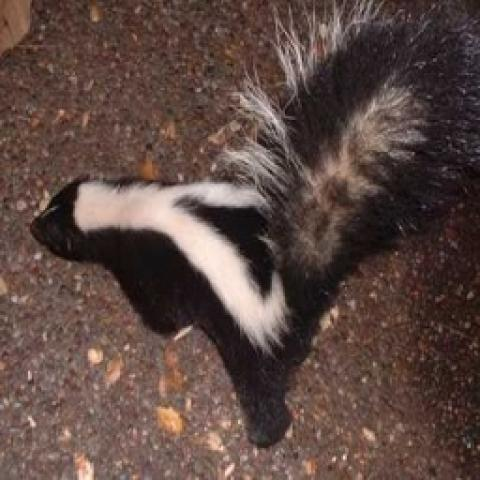small_animal: (31, 25, 465, 449)
